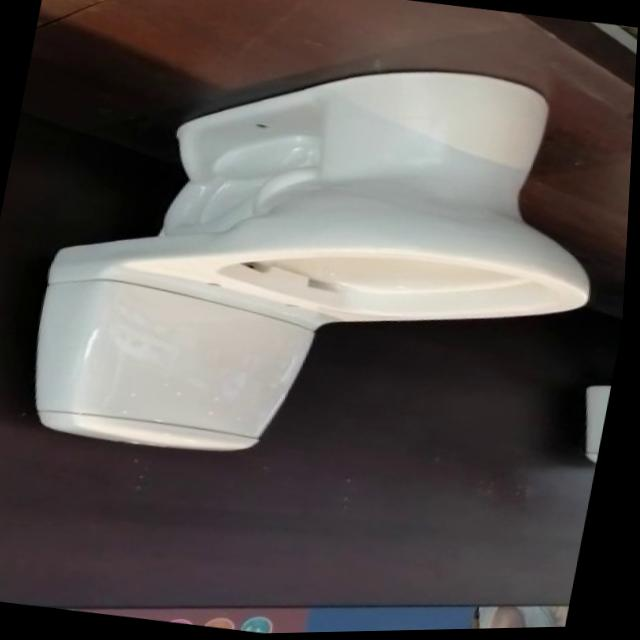toilet: (17, 20, 633, 509)
